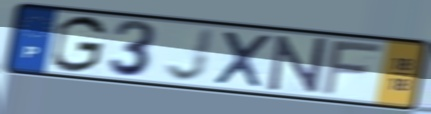3: (106, 19, 161, 80)
F: (318, 40, 387, 98)
G: (49, 14, 109, 75)
J: (163, 26, 217, 84)
N: (266, 34, 328, 95)
X: (211, 28, 275, 91)
